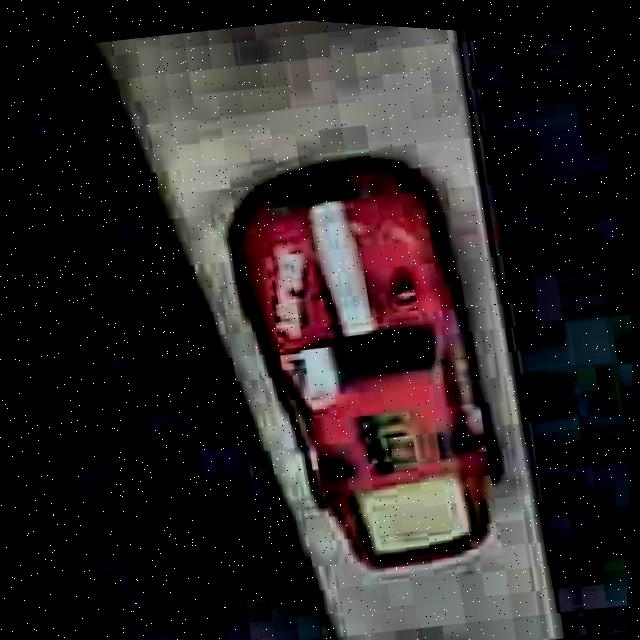car: (200, 125, 528, 604)
